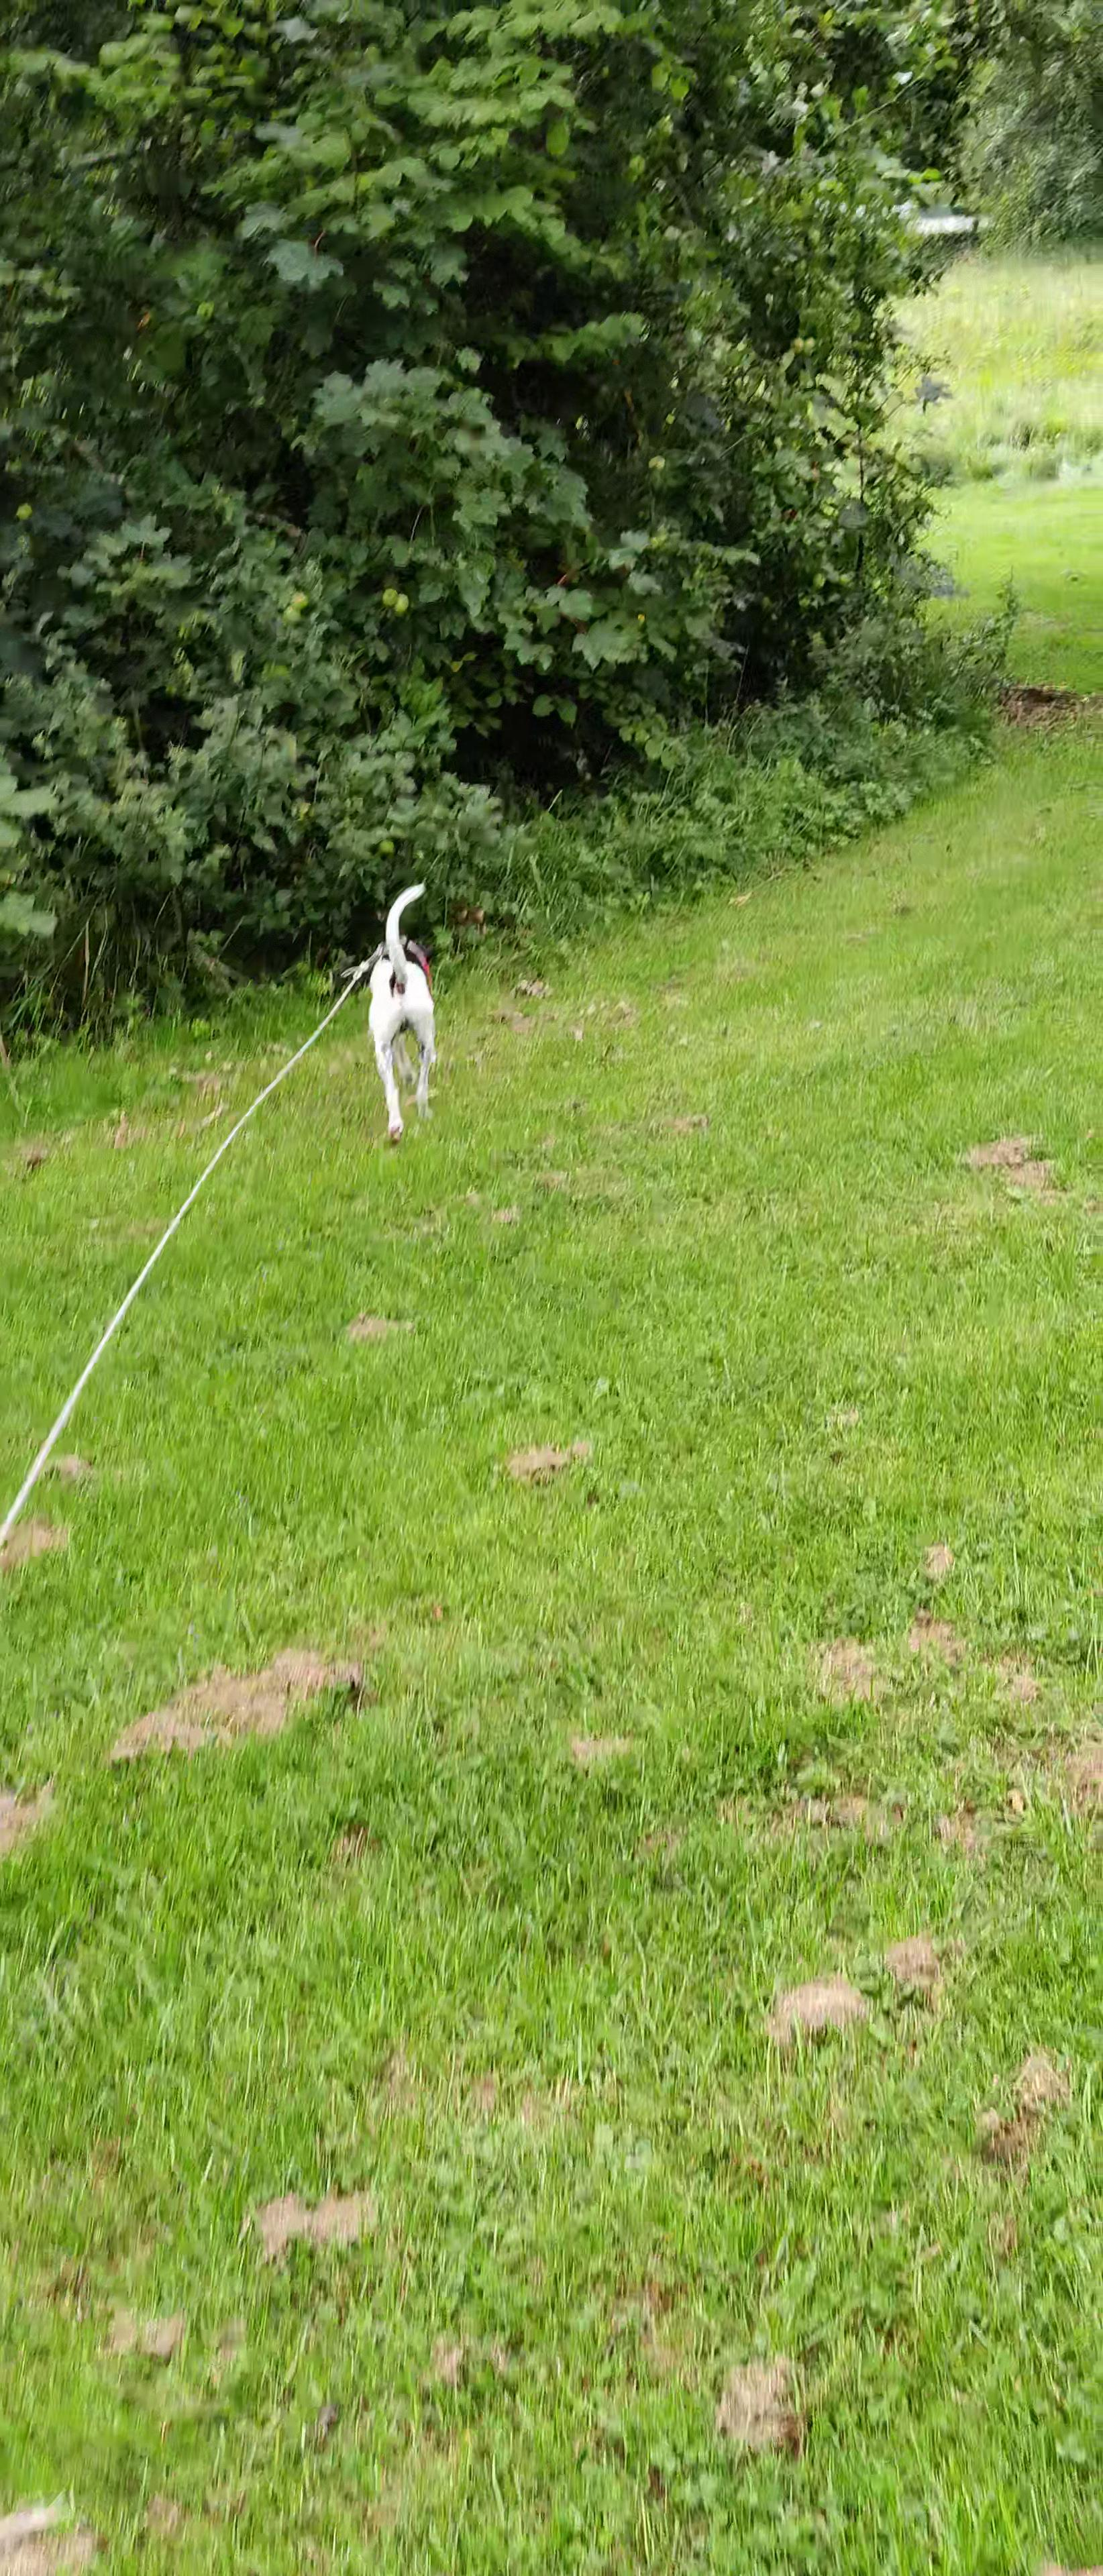Dog: (340, 867, 472, 1158)
